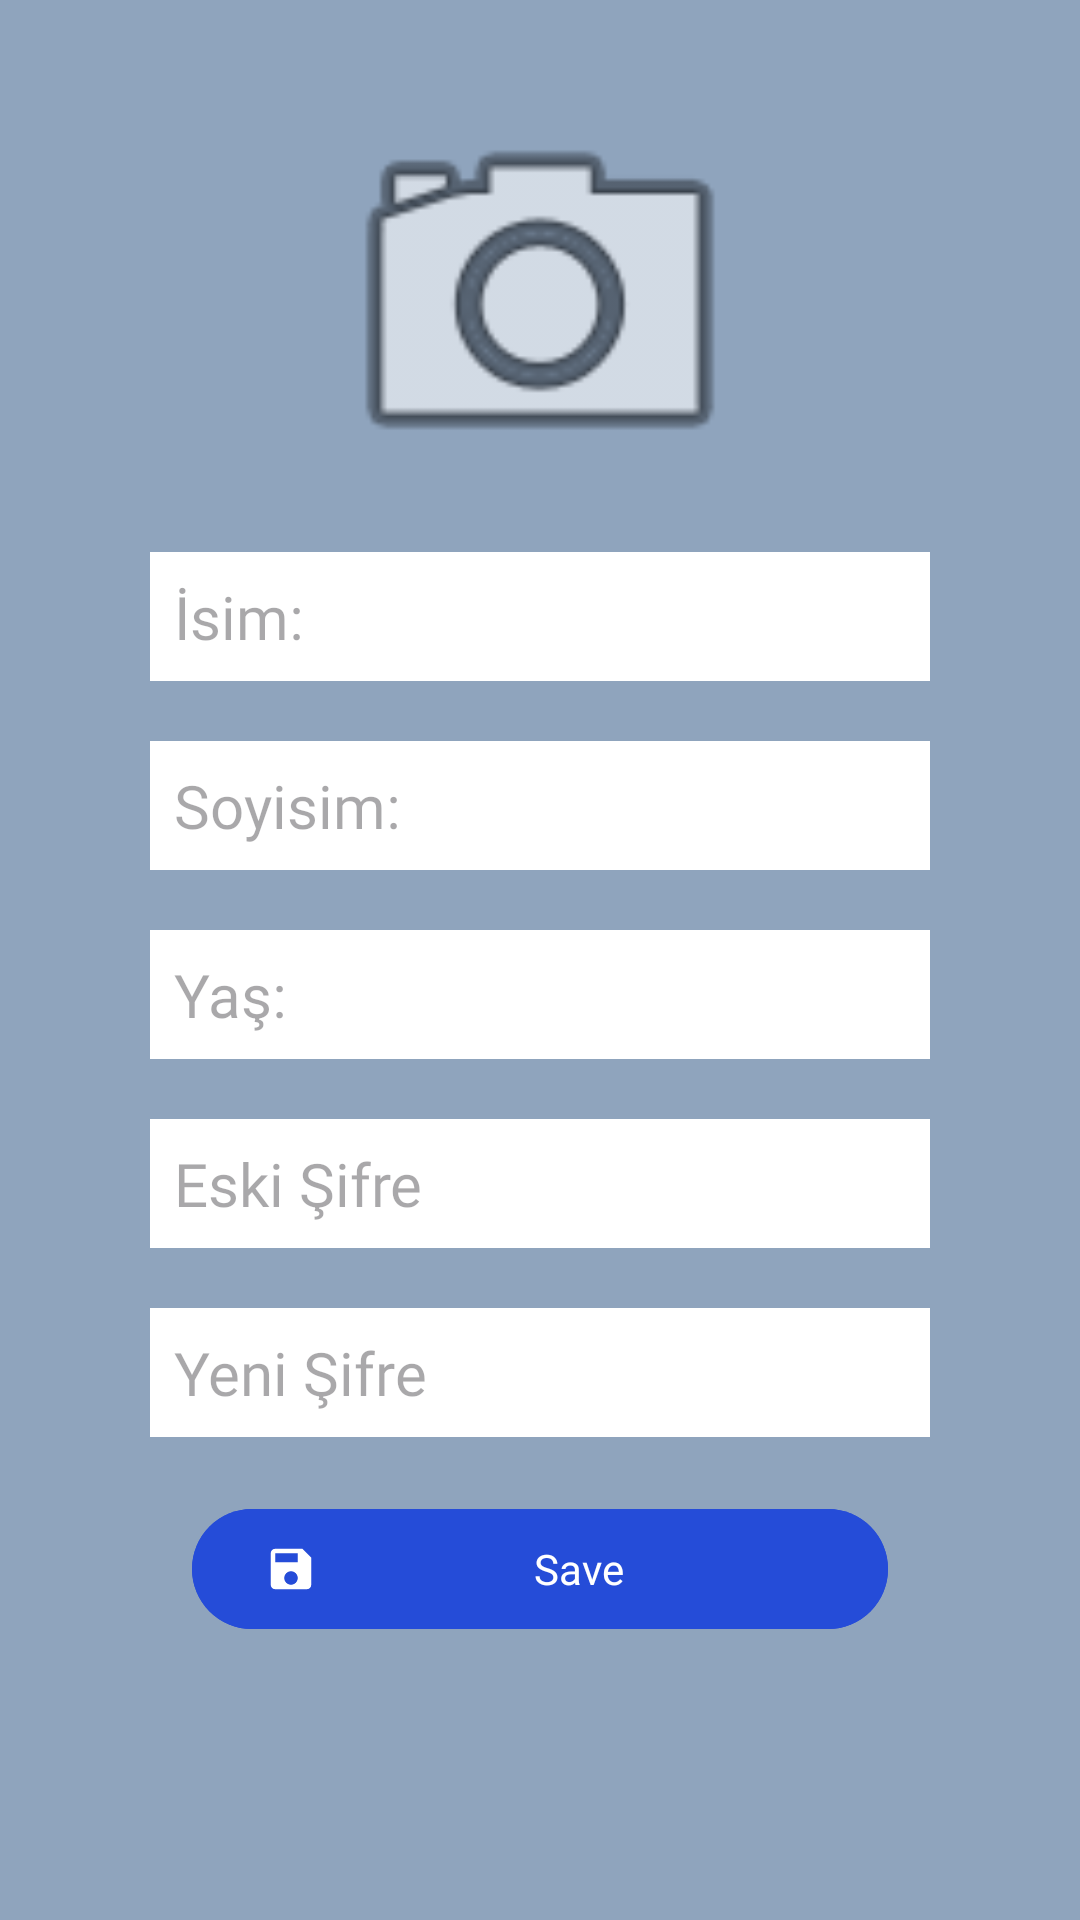

Icons on this 1080×1920 Android screen, each with the point to tap as point (x, y):
camera: point (540, 290)
